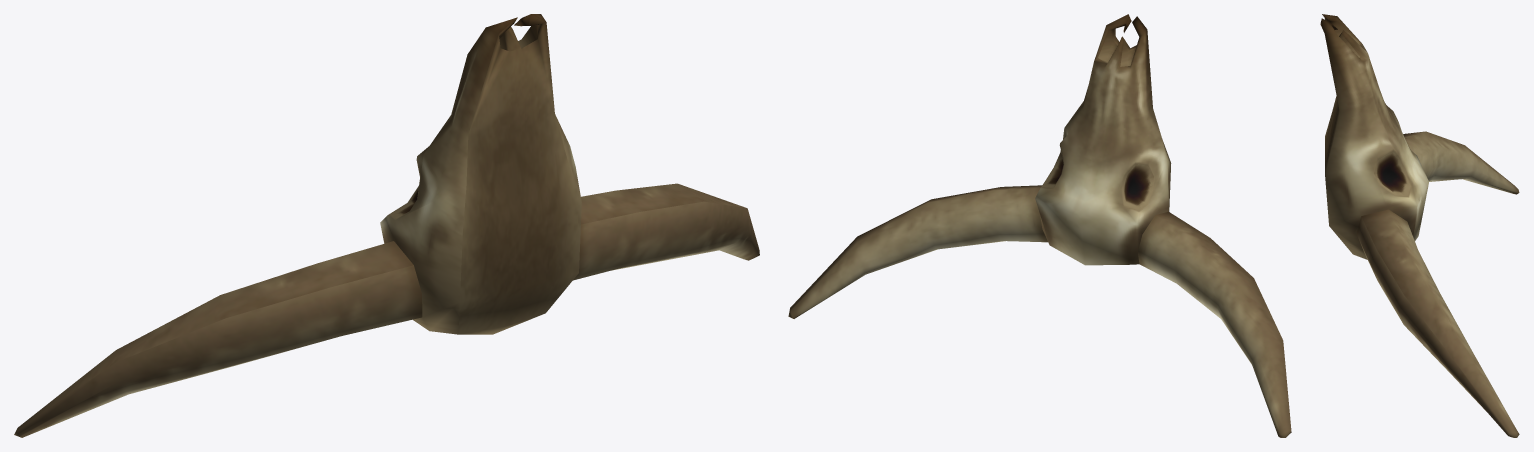
Rendered from skull_001.FBX.
3 views of the same model, side by side, from view 1: azimuth 30°, elevation 25°; view 2: azimuth 150°, elevation 25°; view 3: azimuth 270°, elevation 25° (orthographic). The views are drawn at different scales.
Visible parts, largest first — view 1: skull_001; view 2: skull_001; view 3: skull_001.
Part boxes in pixels (box(x1,y1,x2,y2)): skull_001: box(14, 14, 759, 437); skull_001: box(788, 14, 1291, 437); skull_001: box(1320, 14, 1519, 437).
Size of the model in its own units: 2.6 by 1.46 by 0.8786.
